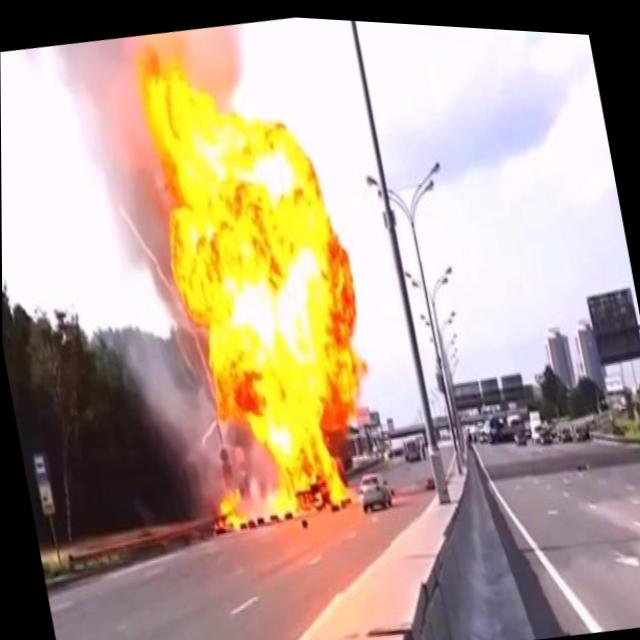fire: (117, 25, 398, 545)
